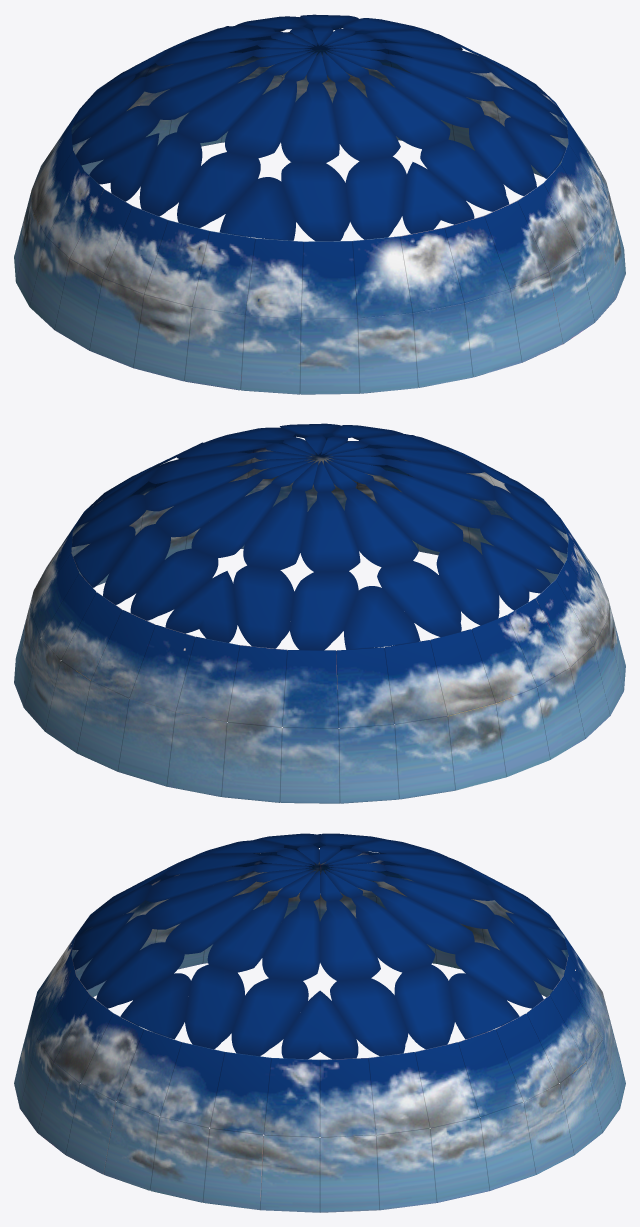
The picture shows the model from 3 angles, top to bottom: view 1: azimuth 30°, elevation 25°; view 2: azimuth 150°, elevation 25°; view 3: azimuth 270°, elevation 25°; orthographic projection.
Parts seen in each view (by area): view 1: T1L7M004_22; view 2: T1L7M004_22; view 3: T1L7M004_22.
Boxes of the visible parts, <box> form: T1L7M004_22: <box>14,14,625,394</box>; T1L7M004_22: <box>14,423,625,803</box>; T1L7M004_22: <box>14,833,625,1212</box>.
Size of the model in its own units: 4.09 by 1.6 by 4.09.
